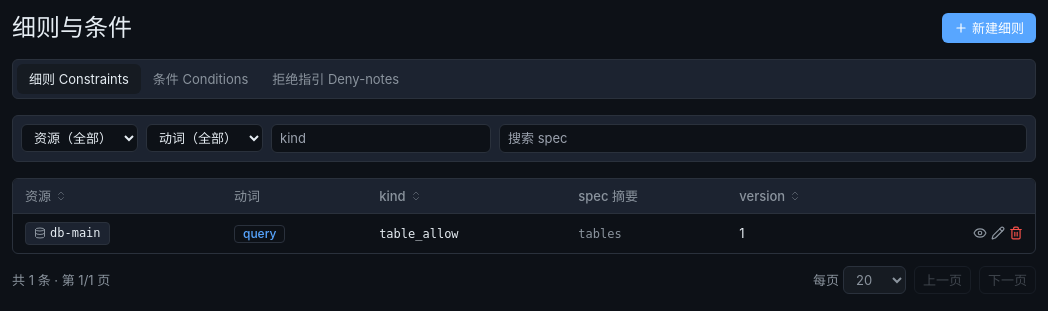
Test case: ConstraintsPage — 正常渲染与段切换 › switches segments: conditions table shows the predicate column/row
Expected: the text "table_allow" is shown, x1=379 y1=227 x2=459 y2=241
Click the tab "条件 Conditions" at (201, 79), box x1=141 y1=64 x2=260 y2=94
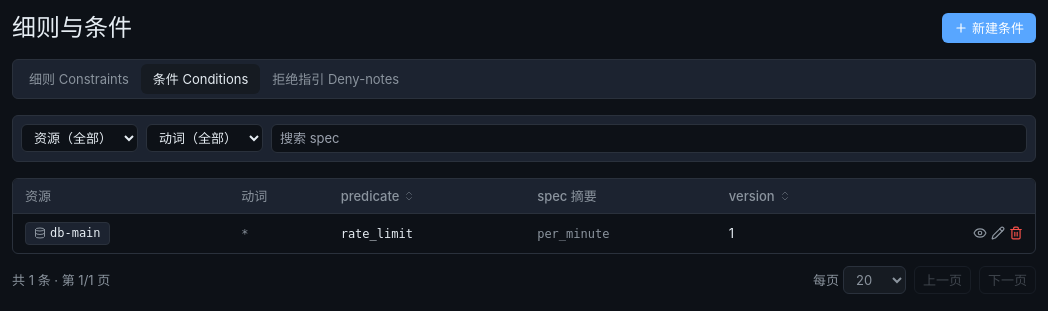
Expected: the text "rate_limit" is shown, x1=341 y1=227 x2=413 y2=241
Expected: the button "predicate" is shown, x1=341 y1=187 x2=415 y2=205
Expected: the button "kind" is gone
